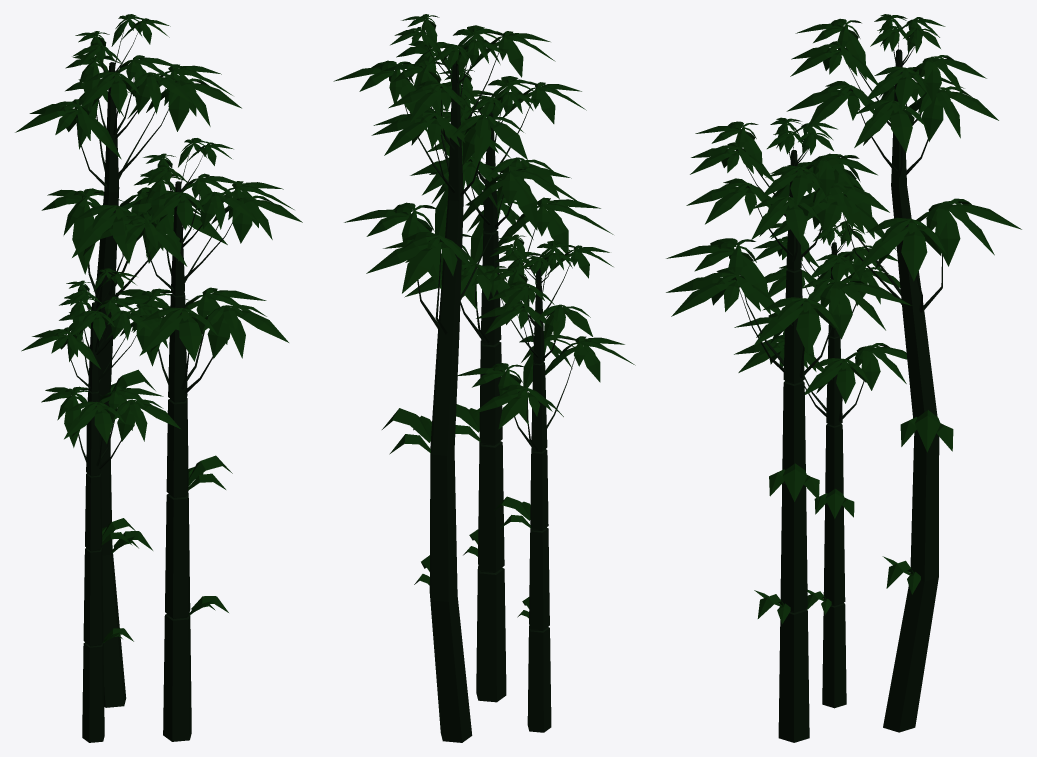
File: bamboo.obj
3 views of the same model, side by side, from view 1: azimuth 30°, elevation 25°; view 2: azimuth 150°, elevation 25°; view 3: azimuth 270°, elevation 25° (orthographic). The views are drawn at different scales.
Visible parts, largest first — view 1: group2_pCylinder19, group2_pCylinder20, group2_pCylinder18; view 2: group2_pCylinder20, group2_pCylinder19, group2_pCylinder18; view 3: group2_pCylinder20, group2_pCylinder19, group2_pCylinder18.
Boxes of the visible parts, box(x1,y1,x2,y2) form: group2_pCylinder19: box(99, 138, 302, 741); group2_pCylinder20: box(15, 14, 241, 707); group2_pCylinder18: box(21, 268, 181, 742); group2_pCylinder20: box(333, 14, 583, 742); group2_pCylinder19: box(373, 68, 613, 702); group2_pCylinder18: box(457, 234, 635, 732); group2_pCylinder20: box(765, 14, 1021, 732); group2_pCylinder19: box(666, 117, 911, 742); group2_pCylinder18: box(734, 219, 907, 708).
Bounding box in the file's own units: 5.08 × 13.9 × 6.29.
